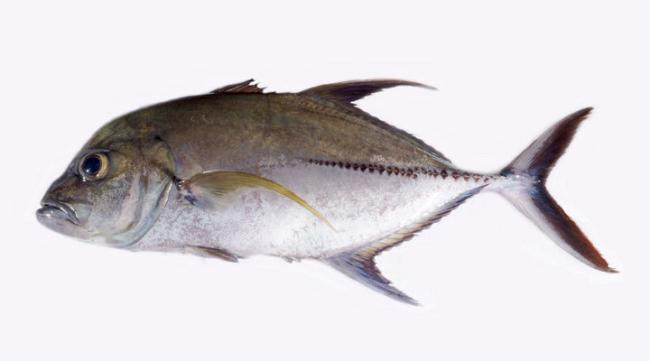fish: (36, 78, 622, 307)
